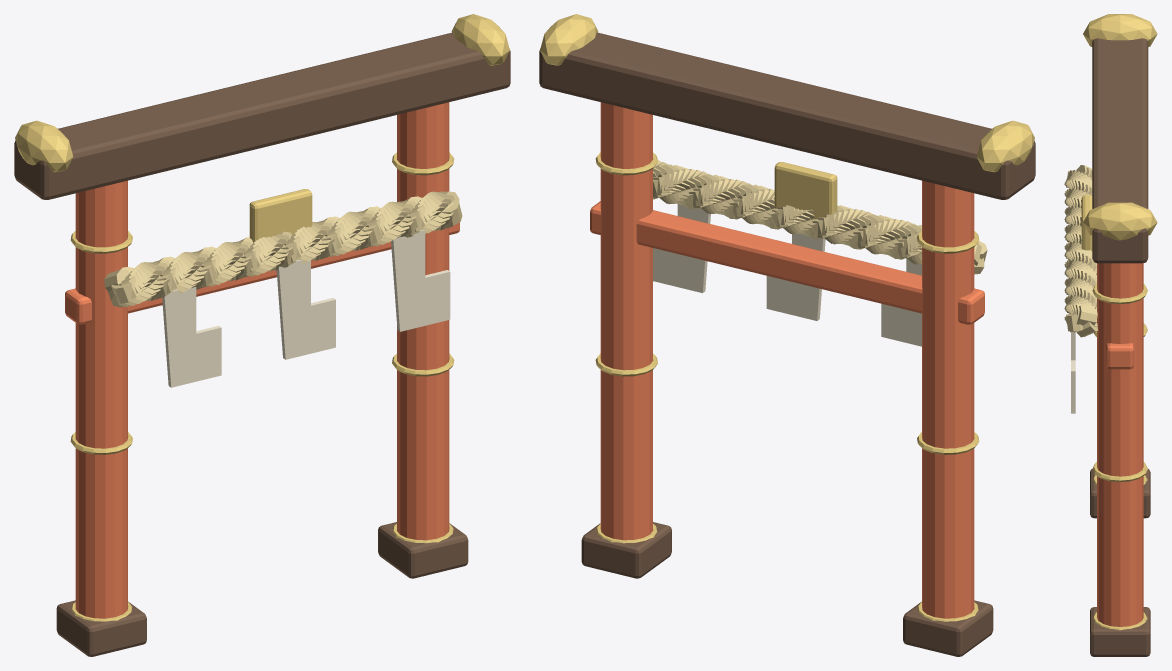
Rendered from ritual_shimenawa_gate.glb.
The picture shows the model from 3 angles, left to right: view 1: azimuth 30°, elevation 25°; view 2: azimuth 150°, elevation 25°; view 3: azimuth 270°, elevation 25°; orthographic projection. The views are drawn at different scales.
Parts seen in each view (by area): view 1: Sacred shimenawa gateway kasagi upper crossbeam, Sacred shimenawa gateway lacquered main pillar, Sacred shimenawa gateway lacquered main pillar.001, Hanging white zigzag shide.002, Hanging white zigzag shide, Hanging white zigzag shide.001, Sacred shimenawa gateway black foot, Sacred shimenawa gateway black foot.001, Sacred shimenawa gateway traditional central plate, Sacred shimenawa gateway nuki secondary beam, Sacred shimenawa gateway finial gold, Sacred shimenawa gateway finial gold.001; view 2: Sacred shimenawa gateway kasagi upper crossbeam, Sacred shimenawa gateway lacquered main pillar, Sacred shimenawa gateway lacquered main pillar.001, Sacred shimenawa gateway nuki secondary beam, Sacred shimenawa gateway black foot, Sacred shimenawa gateway black foot.001, Sacred shimenawa gateway traditional central plate, Hanging white zigzag shide.001, Hanging white zigzag shide.002, Sacred shimenawa gateway finial gold, Sacred shimenawa gateway finial gold.001, Hanging white zigzag shide; view 3: Sacred shimenawa gateway lacquered main pillar.001, Sacred shimenawa gateway kasagi upper crossbeam, Sacred shimenawa gateway finial gold.001, Sacred shimenawa gateway black foot.001, Sacred shimenawa gateway finial gold, Sacred shimenawa gateway nuki secondary beam, Sacred shimenawa gateway black foot, Sacred shimenawa gateway traditional central plate, Hanging white zigzag shide.002, Sacred shimenawa gateway lacquered main pillar binding.004, Sacred shimenawa gateway lacquered main pillar binding.005, Twisted shimenawa core_73.001 (+3 smaller).
Boxes of the visible parts, x1,y1,x2,y2 form: Sacred shimenawa gateway kasagi upper crossbeam: (14,32,510,199); Sacred shimenawa gateway lacquered main pillar: (75,180,127,618); Sacred shimenawa gateway lacquered main pillar.001: (397,102,449,540); Hanging white zigzag shide.002: (391,230,450,331); Hanging white zigzag shide: (162,287,221,387); Hanging white zigzag shide.001: (276,259,335,359); Sacred shimenawa gateway black foot: (56,600,146,656); Sacred shimenawa gateway black foot.001: (378,522,468,578); Sacred shimenawa gateway traditional central plate: (249,189,312,242); Sacred shimenawa gateway nuki secondary beam: (65,222,459,324); Sacred shimenawa gateway finial gold: (15,120,73,172); Sacred shimenawa gateway finial gold.001: (451,14,509,65); Sacred shimenawa gateway kasagi upper crossbeam: (539,32,1035,199); Sacred shimenawa gateway lacquered main pillar: (922,180,974,618); Sacred shimenawa gateway lacquered main pillar.001: (600,102,652,540); Sacred shimenawa gateway nuki secondary beam: (590,201,984,324); Sacred shimenawa gateway black foot: (903,600,993,656); Sacred shimenawa gateway black foot.001: (581,522,671,578); Sacred shimenawa gateway traditional central plate: (774,162,837,219); Hanging white zigzag shide.001: (766,234,825,320); Hanging white zigzag shide.002: (653,204,710,293); Sacred shimenawa gateway finial gold: (976,120,1034,172); Sacred shimenawa gateway finial gold.001: (540,14,598,65); Hanging white zigzag shide: (881,258,921,346); Sacred shimenawa gateway lacquered main pillar.001: (1097,263,1143,626); Sacred shimenawa gateway kasagi upper crossbeam: (1092,38,1148,263); Sacred shimenawa gateway finial gold.001: (1083,202,1157,240); Sacred shimenawa gateway black foot.001: (1090,607,1150,656); Sacred shimenawa gateway finial gold: (1083,14,1157,46); Sacred shimenawa gateway nuki secondary beam: (1106,343,1134,369); Sacred shimenawa gateway black foot: (1090,469,1150,518); Sacred shimenawa gateway traditional central plate: (1081,195,1092,251); Hanging white zigzag shide.002: (1071,332,1075,413); Sacred shimenawa gateway lacquered main pillar binding.004: (1092,462,1147,482); Sacred shimenawa gateway lacquered main pillar binding.005: (1092,284,1147,304); Twisted shimenawa core_73.001: (1077,306,1097,325).
Size of the model in its own units: 1.83 by 1.95 by 0.3521.
